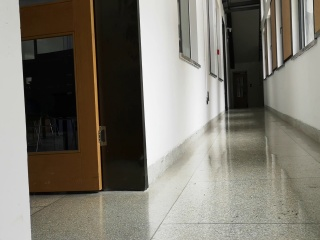room: (17, 3, 147, 193)
